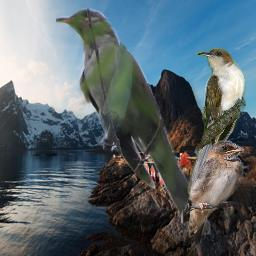Cuckoo: (56, 8, 217, 236), (187, 48, 246, 196)
Swallow: (177, 140, 244, 246)
